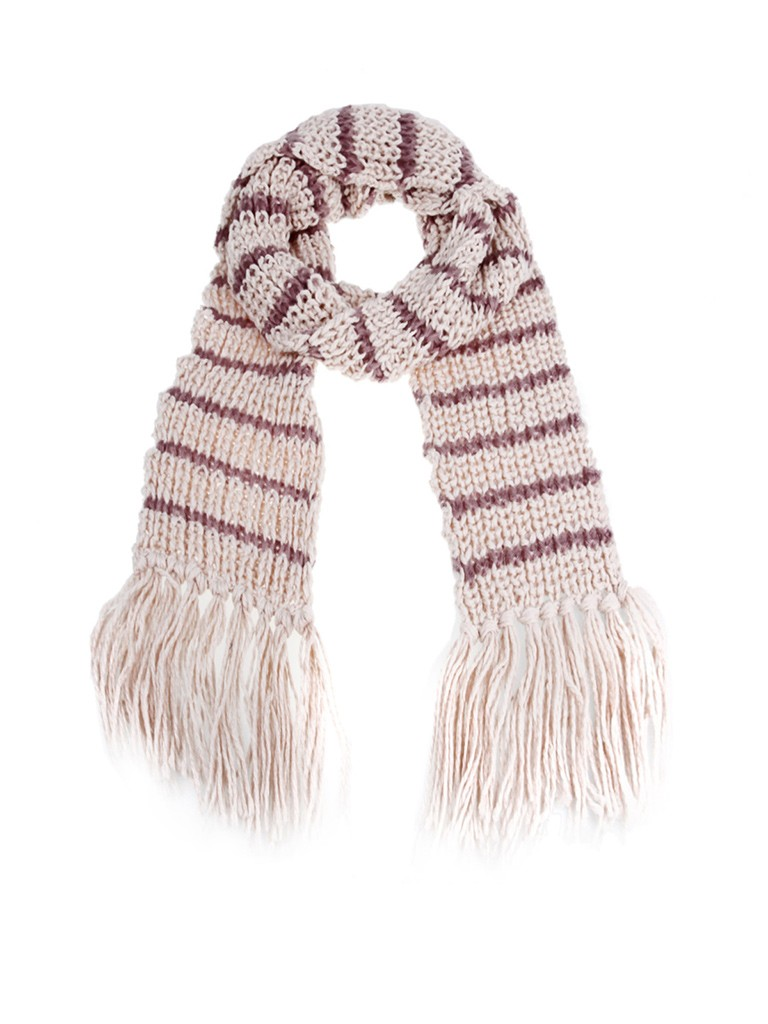flexible: (102, 101, 672, 860)
